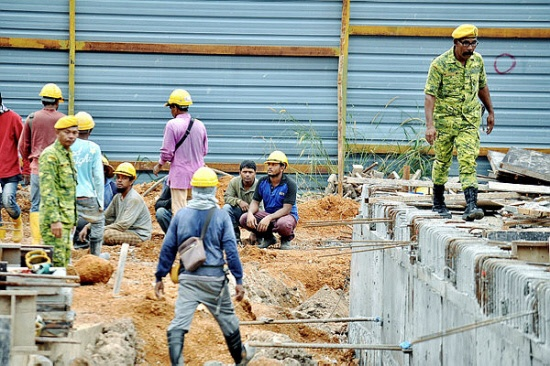none: (237, 158, 256, 184)
yellow: (452, 23, 479, 58), (189, 165, 217, 197), (53, 115, 79, 147), (167, 89, 191, 115), (39, 83, 61, 110), (115, 162, 134, 192), (266, 150, 286, 176), (75, 111, 93, 138)
